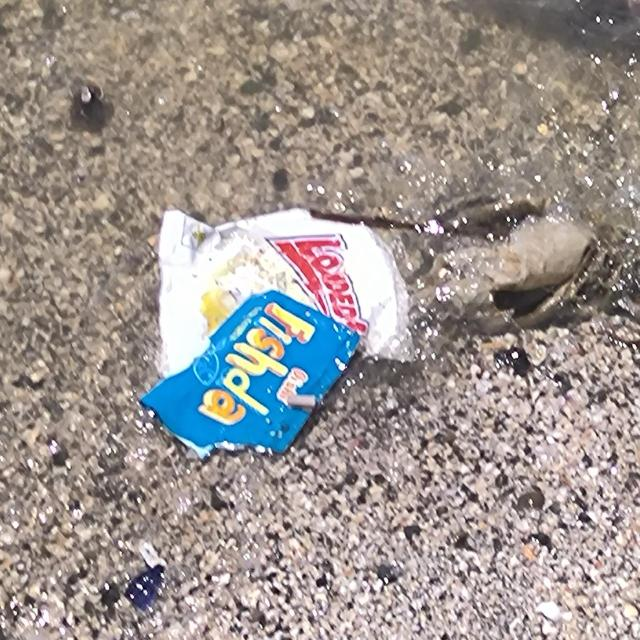plastic_waste: (140, 209, 418, 462)
